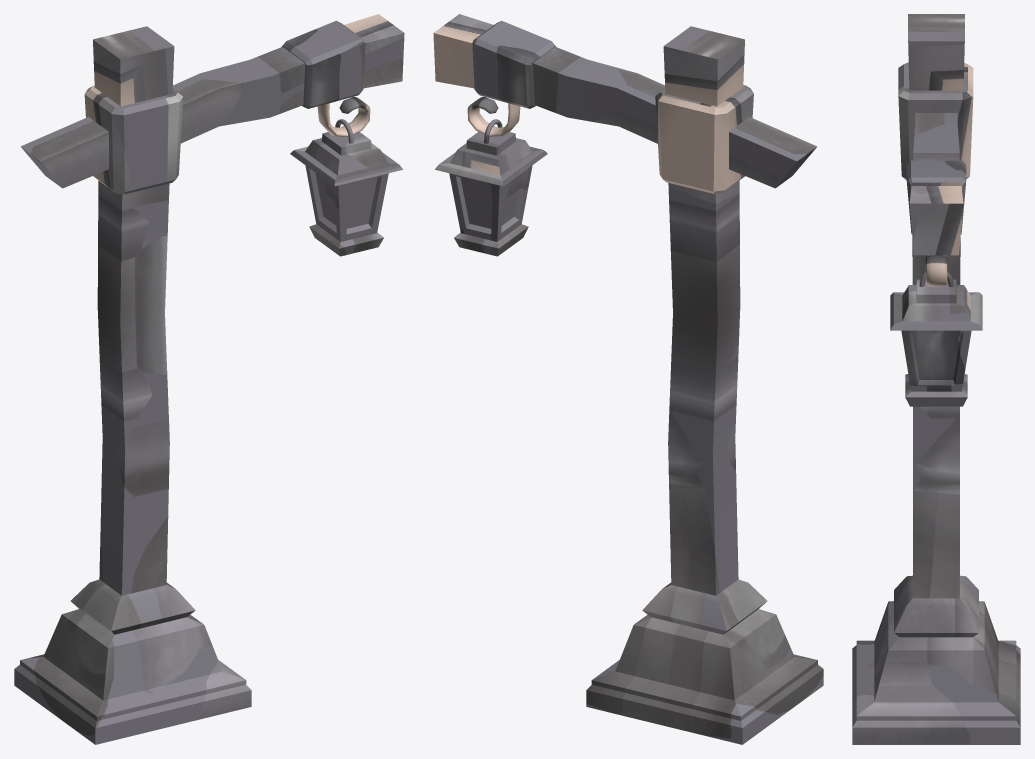
The model's file is lamp_02.fbx.
3 views of the same model, side by side, from view 1: azimuth 30°, elevation 25°; view 2: azimuth 150°, elevation 25°; view 3: azimuth 270°, elevation 25° (orthographic). The views are drawn at different scales.
Visible parts, largest first — view 1: lamp_02; view 2: lamp_02; view 3: lamp_02.
Part boxes in pixels (bbox=[...]): lamp_02: bbox=[14, 14, 404, 744]; lamp_02: bbox=[433, 14, 823, 744]; lamp_02: bbox=[852, 14, 1020, 744].
Bounding box in the file's own units: 187 × 324 × 72.85.
